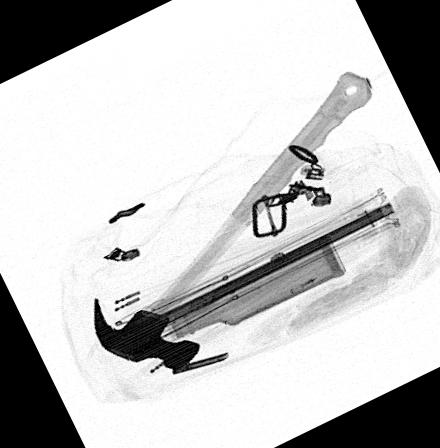Hammer: (91, 70, 370, 370)
